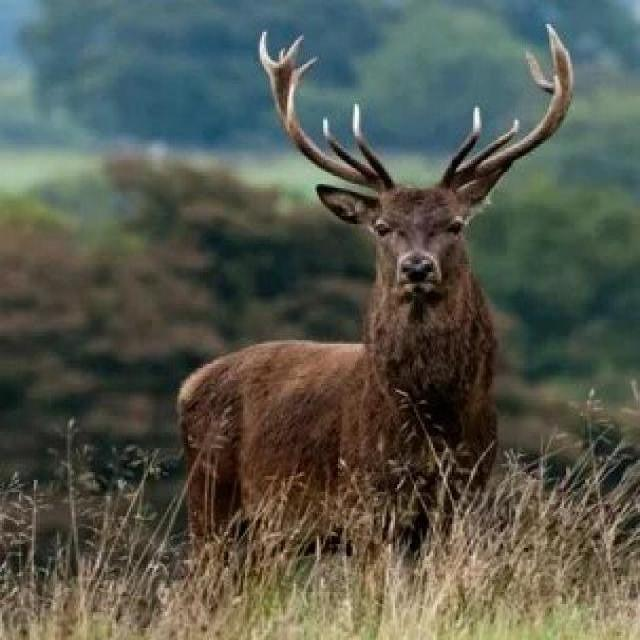deer: (106, 80, 510, 509)
